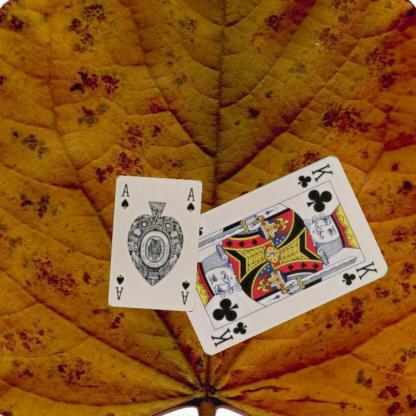As: (178, 277, 191, 306), (118, 181, 130, 210)
Kc: (294, 160, 335, 190), (208, 318, 248, 348)
